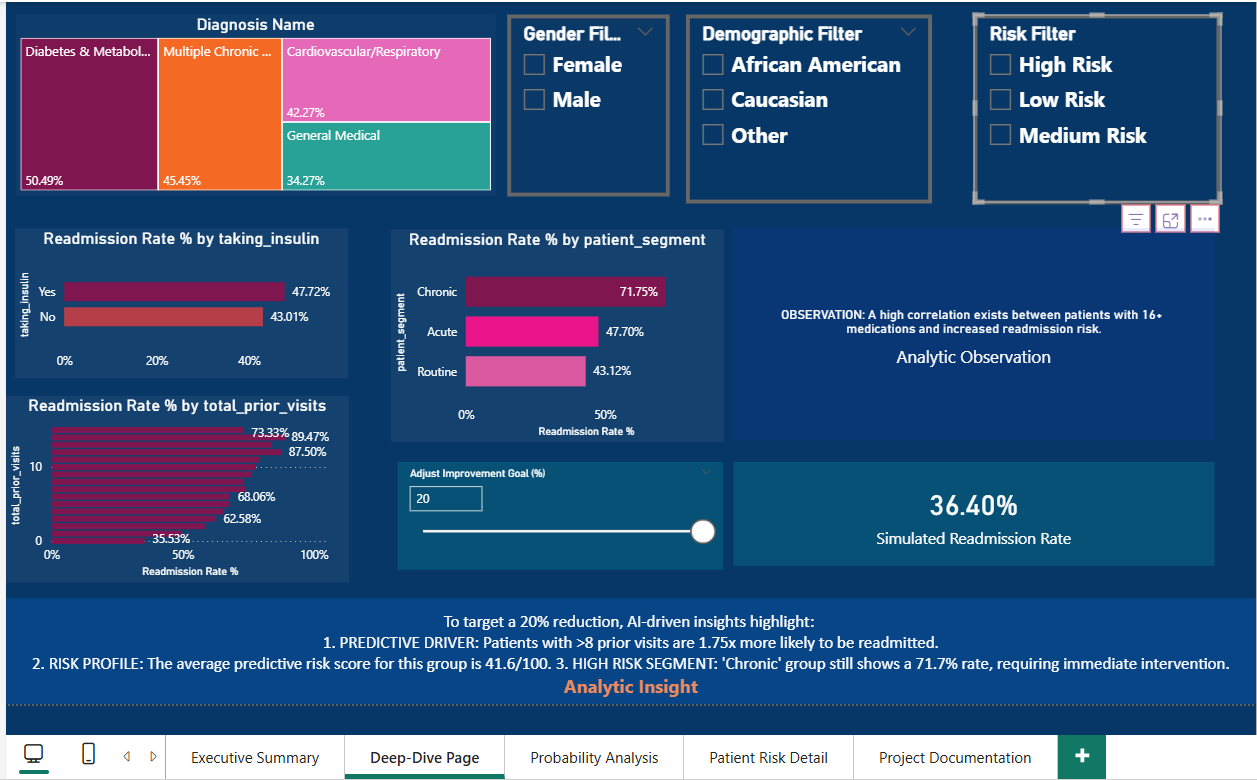

The dashboard page shown, as its layout file describes it:
{"tool":"powerbi","page":{"name":"Deep-Dive Page","canvas":[1280,720],"ordinal":1},"visuals":[{"type":"clusteredBarChart","fields":{"Category":["cleaned_hospital_data.taking_insulin"],"Y":["cleaned_hospital_data.Readmission Rate %"]},"box":[9.2,232.4,341.6,153.9],"z":0},{"type":"treemap","title":"Diagnosis Name","fields":{"Values":["cleaned_hospital_data.Readmission Rate %"],"Group":["cleaned_hospital_data.diagnosis_name"]},"box":[10,12.4,491.4,185.3],"z":1000},{"type":"slicer","fields":{"Values":["cleaned_hospital_data.gender"]},"box":[514,12.3,166.2,186.2],"z":2000},{"type":"slicer","fields":{"Values":["cleaned_hospital_data.race"]},"box":[697.1,12.3,252.4,193.9],"z":3000},{"type":"clusteredBarChart","fields":{"Y":["cleaned_hospital_data.Readmission Rate %"],"Category":["cleaned_hospital_data.patient_segment"]},"box":[394.3,232.6,340.8,217.7],"z":4000},{"type":"slicer","fields":{"Values":["cleaned_hospital_data.risk_category"]},"box":[991.4,12.4,252.5,194.1],"z":5000},{"type":"slicer","fields":{"Values":["Target Readmission Reduction.Target Readmission Reduction"]},"box":[400.1,470.9,333.9,110.8],"z":6000},{"type":"card","fields":{"Values":["Target Readmission Reduction.Projected Readmission Rate"]},"box":[744.8,470.9,492.4,106.2],"z":7000},{"type":"card","fields":{"Values":["Target Readmission Reduction.Actionable Insight"]},"box":[0,610.9,1280.3,109.3],"z":8000},{"type":"card","fields":{"Values":["Target Readmission Reduction.Medication vs Lab Impact"]},"box":[744.8,232.4,492.4,217],"z":10000},{"type":"barChart","fields":{"Category":["cleaned_hospital_data.total_prior_visits"],"Y":["cleaned_hospital_data.Readmission Rate %","select"]},"box":[0,403.2,350.9,190.8],"z":10001},{"type":"slicer","fields":{"Values":["cleaned_hospital_data.total_prior_visits"]},"box":[377,470.9,16.9,12.3],"z":10002}]}

Visuals, with their boxes on the page's 1280x720 design canvas (x1, y1, x2, y2). These are canvas units, not pixel positions in the 1257x780 screenshot, which may show the page scaled, cropped or inside an application window:
clusteredBarChart - cleaned_hospital_data.taking_insulin x cleaned_hospital_data.Readmission Rate %: (left=9, top=232, right=351, bottom=386)
"Diagnosis Name" treemap: (left=10, top=12, right=501, bottom=198)
slicer - cleaned_hospital_data.gender: (left=514, top=12, right=680, bottom=198)
slicer - cleaned_hospital_data.race: (left=697, top=12, right=950, bottom=206)
clusteredBarChart - cleaned_hospital_data.Readmission Rate % x cleaned_hospital_data.patient_segment: (left=394, top=233, right=735, bottom=450)
slicer - cleaned_hospital_data.risk_category: (left=991, top=12, right=1244, bottom=206)
slicer - Target Readmission Reduction.Target Readmission Reduction: (left=400, top=471, right=734, bottom=582)
card - Target Readmission Reduction.Projected Readmission Rate: (left=745, top=471, right=1237, bottom=577)
card - Target Readmission Reduction.Actionable Insight: (left=0, top=611, right=1280, bottom=720)
card - Target Readmission Reduction.Medication vs Lab Impact: (left=745, top=232, right=1237, bottom=449)
barChart - cleaned_hospital_data.total_prior_visits x cleaned_hospital_data.Readmission Rate %: (left=0, top=403, right=351, bottom=594)
slicer - cleaned_hospital_data.total_prior_visits: (left=377, top=471, right=394, bottom=483)
